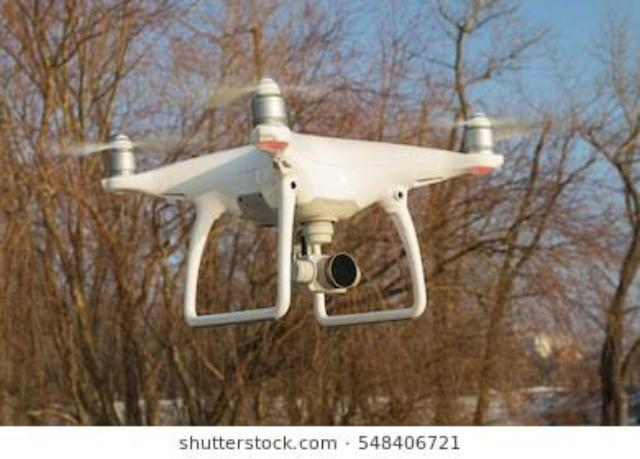drone: (0, 49, 640, 459)
